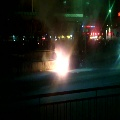fire: (52, 48, 69, 75)
